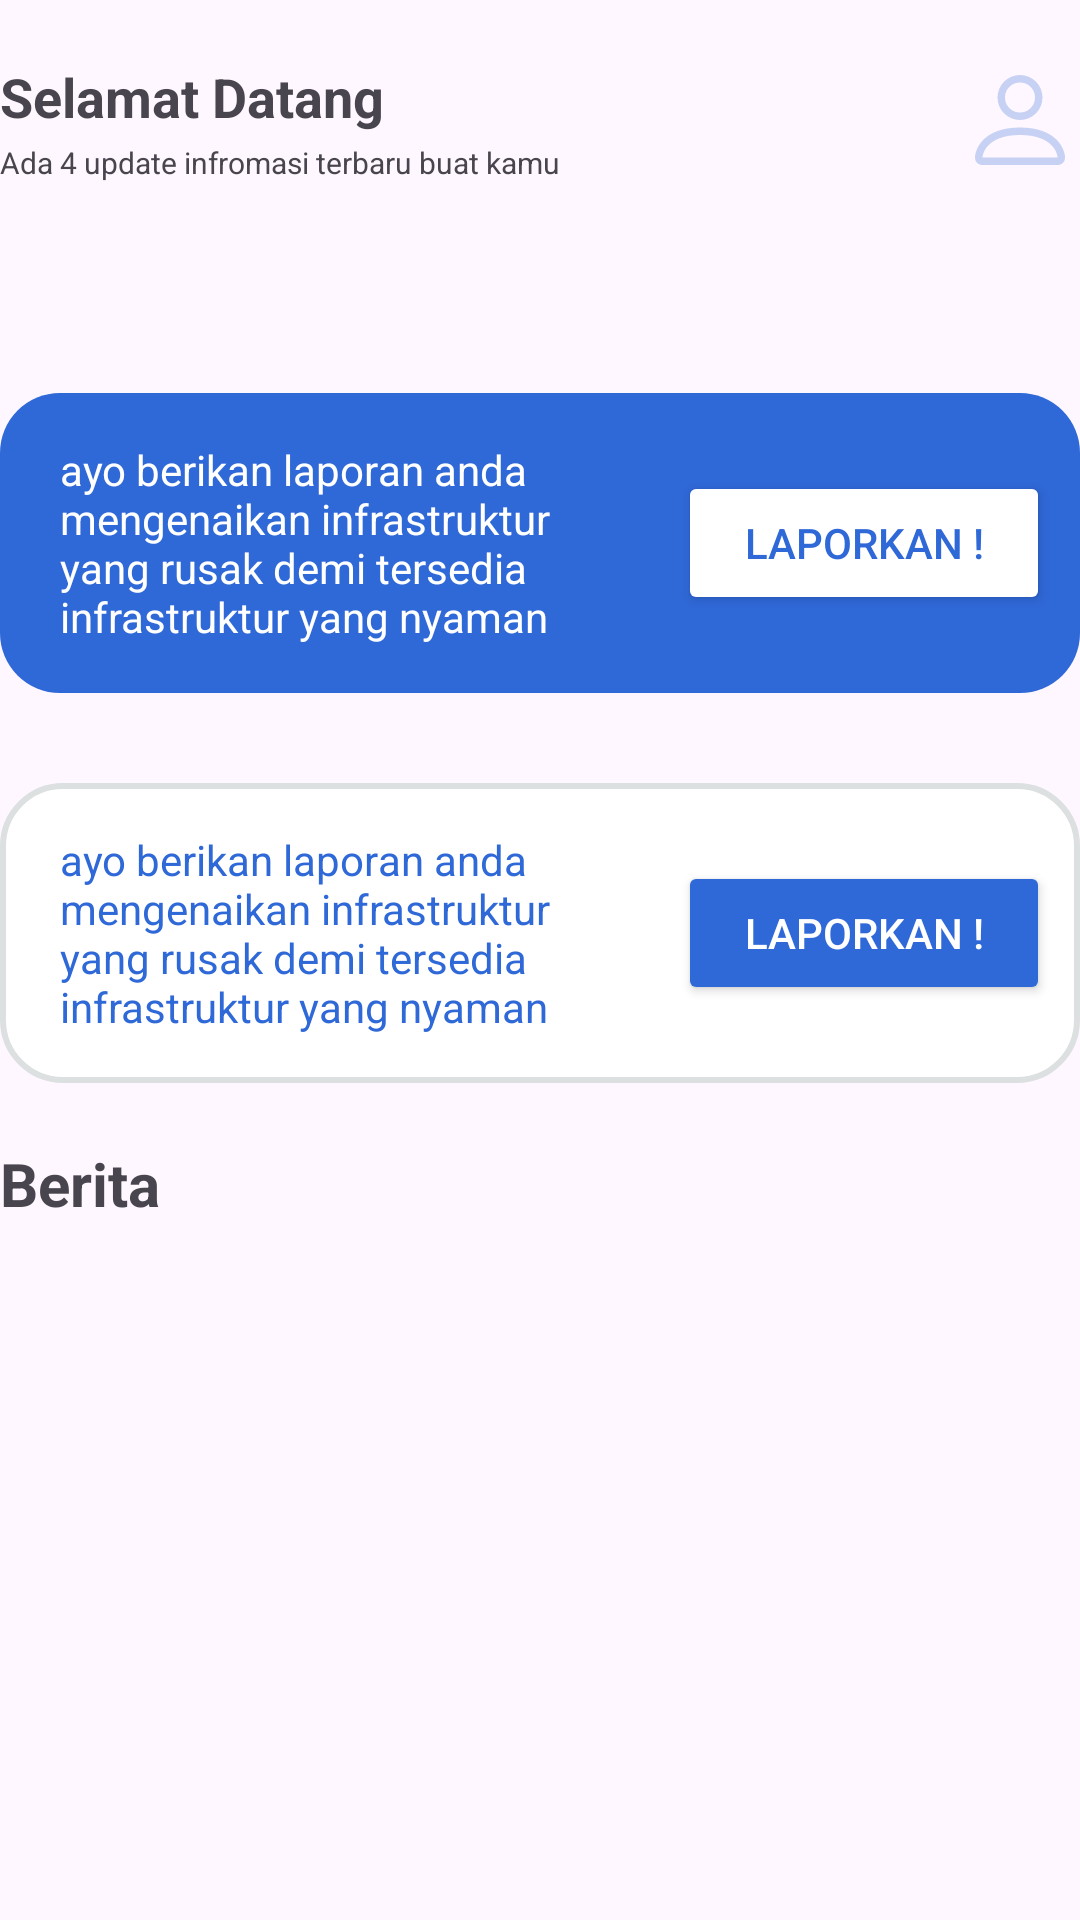

Icons on this 1080 x 1920 Android screen, each with its box as bbox=[x1, y1, x2, y2]:
person: bbox=[975, 75, 1065, 165]
